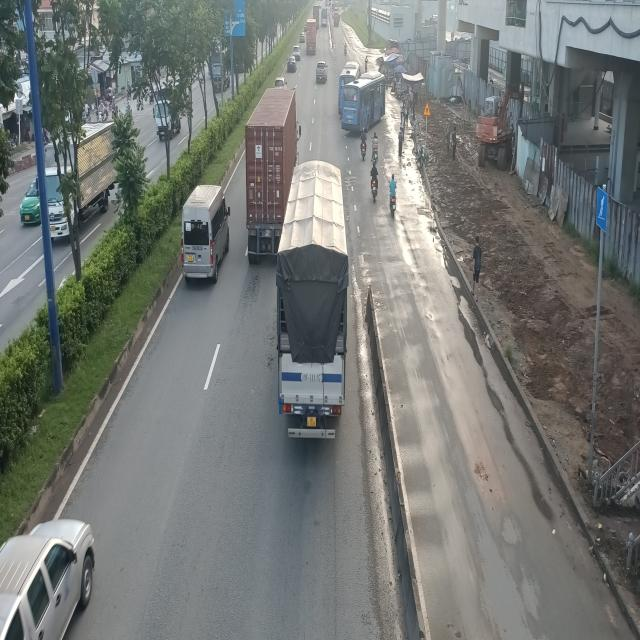coach: (340, 73, 388, 136)
container: (247, 86, 301, 263)
truck: (274, 163, 350, 443)
van: (183, 183, 234, 284)
